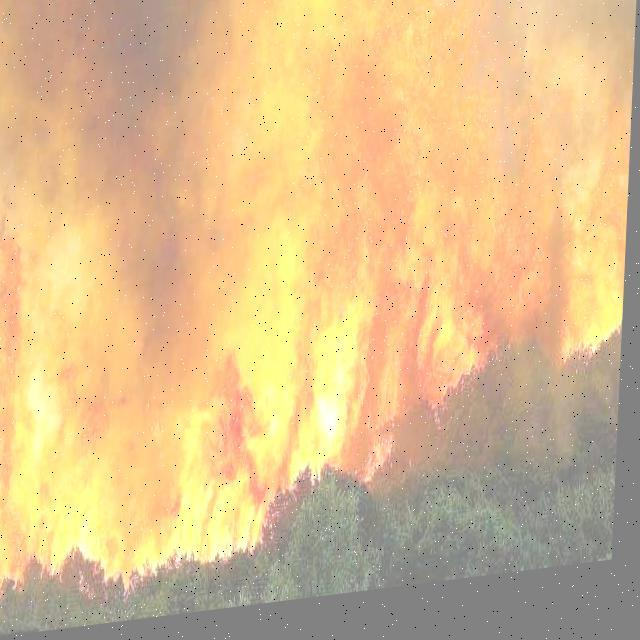Fire: (0, 0, 631, 617)
